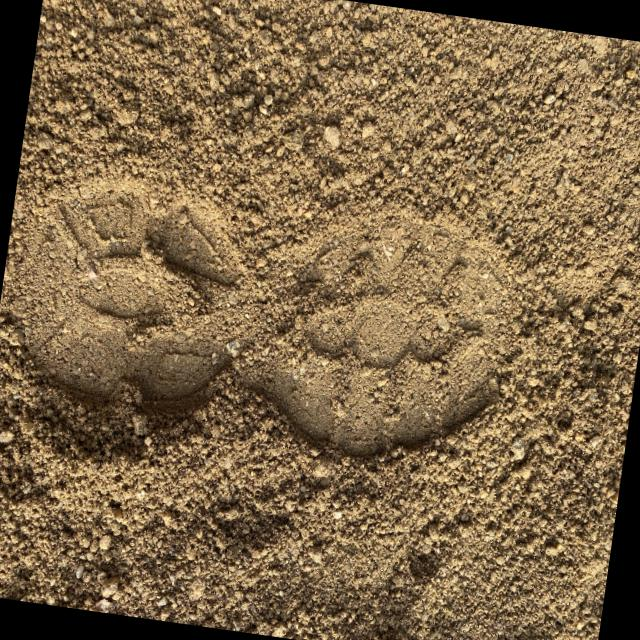human_foot_print: (2, 140, 582, 471)
